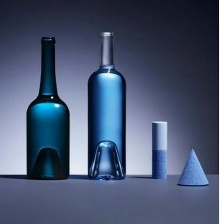bottle: (23, 34, 75, 181), (83, 28, 131, 182)
